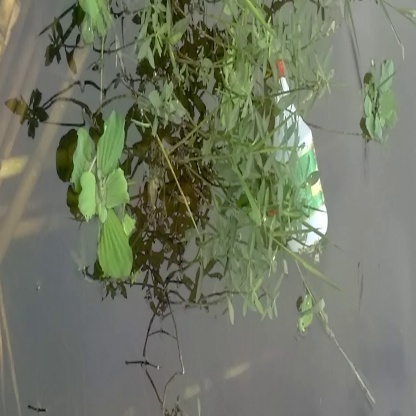bottle: (275, 73, 338, 258)
